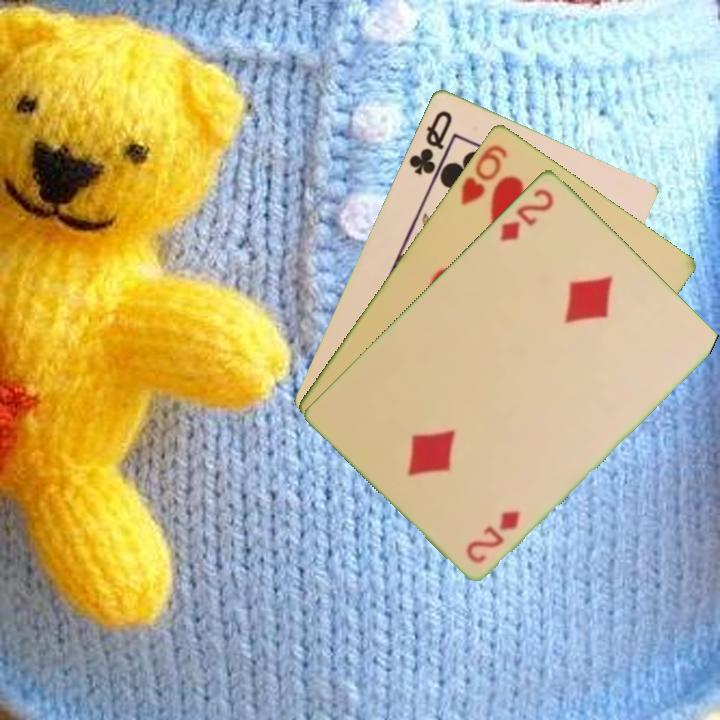2d: (462, 506, 524, 566), (496, 184, 557, 244)
6h: (457, 140, 511, 208)
Qc: (404, 106, 455, 178)
